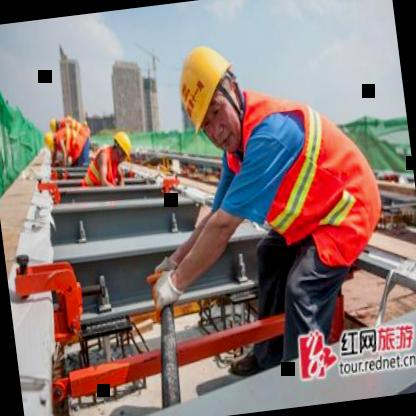helmet: (162, 30, 255, 158), (108, 126, 135, 165), (40, 126, 62, 153)
